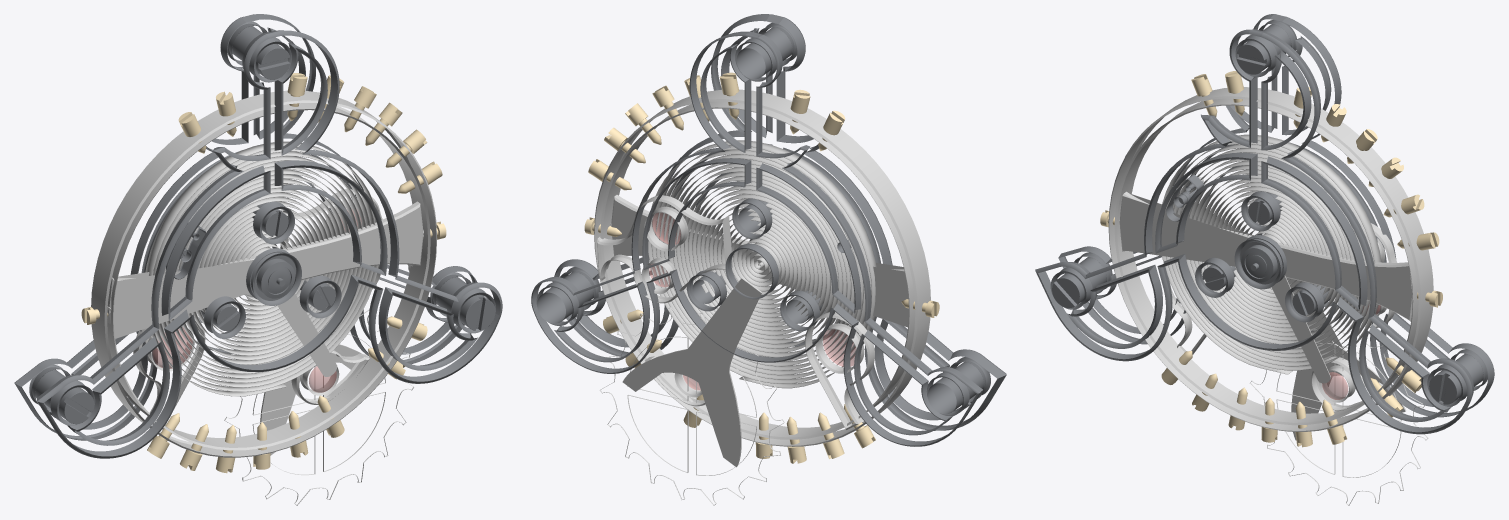
The picture shows the model from 3 angles, left to right: view 1: azimuth 30°, elevation 25°; view 2: azimuth 150°, elevation 25°; view 3: azimuth 330°, elevation 25°; orthographic projection. The views are drawn at different scales.
Visible parts, largest first — view 1: Material1 (×16), Loft-NURBS, Ring, Couvercle_1 (×3), Arrondi_1 (×3), Things, Cog, Extrude-NURBS; view 2: Material1 (×14), Loft-NURBS, Ring, Couvercle_2 (×2), Arrondi_2 (×3), Things, Arrondi_1 (×2), Cog; view 3: Material1 (×15), Loft-NURBS, Ring, Couvercle_1 (×3), Arrondi_1 (×3), Things, Cog, Arrondi_2.
Boxes of the visible parts, <box> form: Material1 (×16): <box>14,14,502,473</box>; Loft-NURBS: <box>145,141,378,396</box>; Ring: <box>91,90,436,456</box>; Couvercle_1 (×3): <box>113,207,422,455</box>; Arrondi_1 (×3): <box>104,100,437,457</box>; Things: <box>133,189,412,419</box>; Cog: <box>224,310,413,505</box>; Extrude-NURBS: <box>107,201,423,324</box>; Material1 (×14): <box>531,14,1006,463</box>; Loft-NURBS: <box>648,140,876,388</box>; Ring: <box>594,89,930,445</box>; Couvercle_2 (×2): <box>611,200,908,467</box>; Arrondi_2 (×3): <box>594,99,917,505</box>; Things: <box>598,195,874,428</box>; Arrondi_1 (×2): <box>600,203,864,504</box>; Cog: <box>600,307,784,505</box>; Material1 (×15): <box>1035,14,1494,447</box>; Loft-NURBS: <box>1162,134,1381,374</box>; Ring: <box>1109,87,1433,430</box>; Couvercle_1 (×3): <box>1119,196,1412,440</box>; Arrondi_1 (×3): <box>1108,96,1420,431</box>; Things: <box>1172,223,1397,410</box>; Cog: <box>1250,320,1427,505</box>; Arrondi_2: <box>1169,238,1386,407</box>.
Size of the model in its own units: 277 by 286 by 36.74.
